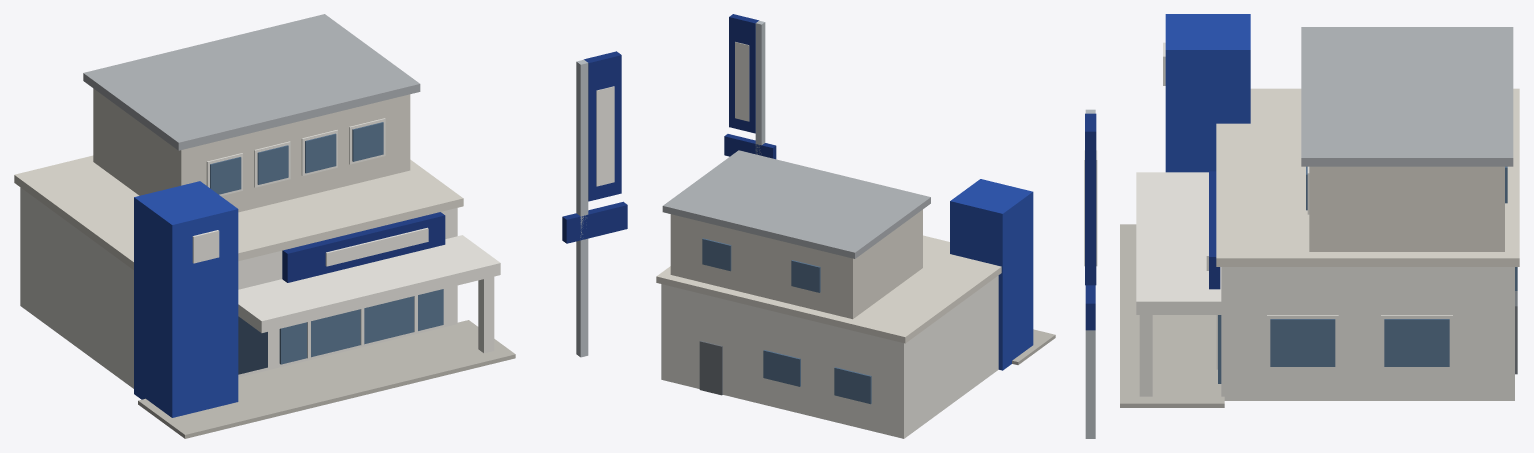
The model's file is LM_Metrobank.glb.
3 views of the same model, side by side, from view 1: azimuth 30°, elevation 25°; view 2: azimuth 150°, elevation 25°; view 3: azimuth 270°, elevation 25° (orthographic). The views are drawn at different scales.
Parts seen in each view (by area): view 1: LM_Metrobank; view 2: LM_Metrobank; view 3: LM_Metrobank.
Boxes of the visible parts, <box> form: LM_Metrobank: <box>14,14,627,438</box>; LM_Metrobank: <box>656,14,1055,438</box>; LM_Metrobank: <box>1084,14,1519,438</box>.
Bounding box in the file's own units: 16.8 × 11 × 13.35.
